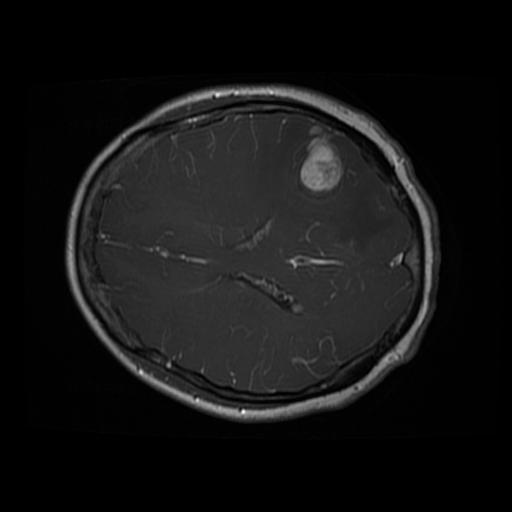glioma: (297, 124, 346, 205)
